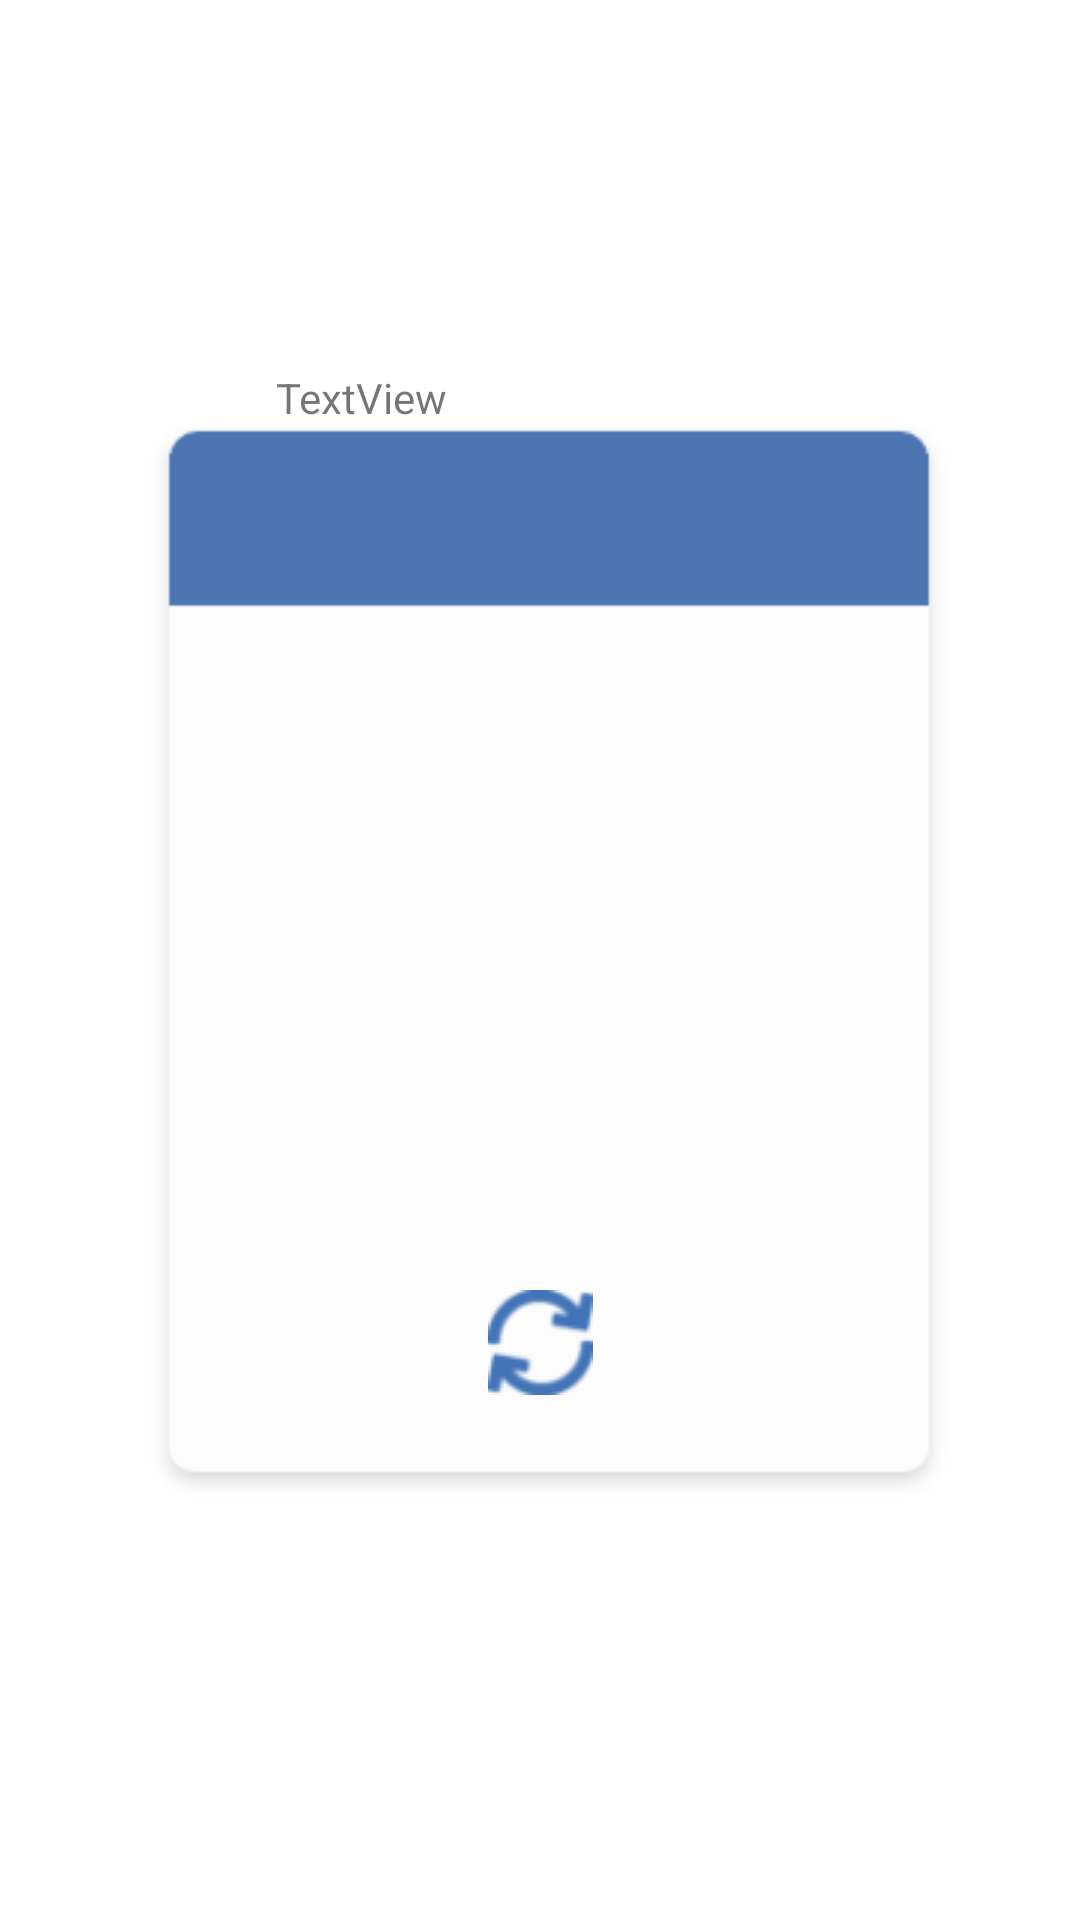

Locate icon controls on the screen. Image size 1080 × 1920, boxes as (x1, y1, x2, y2).
turn: (488, 1290, 593, 1395)
